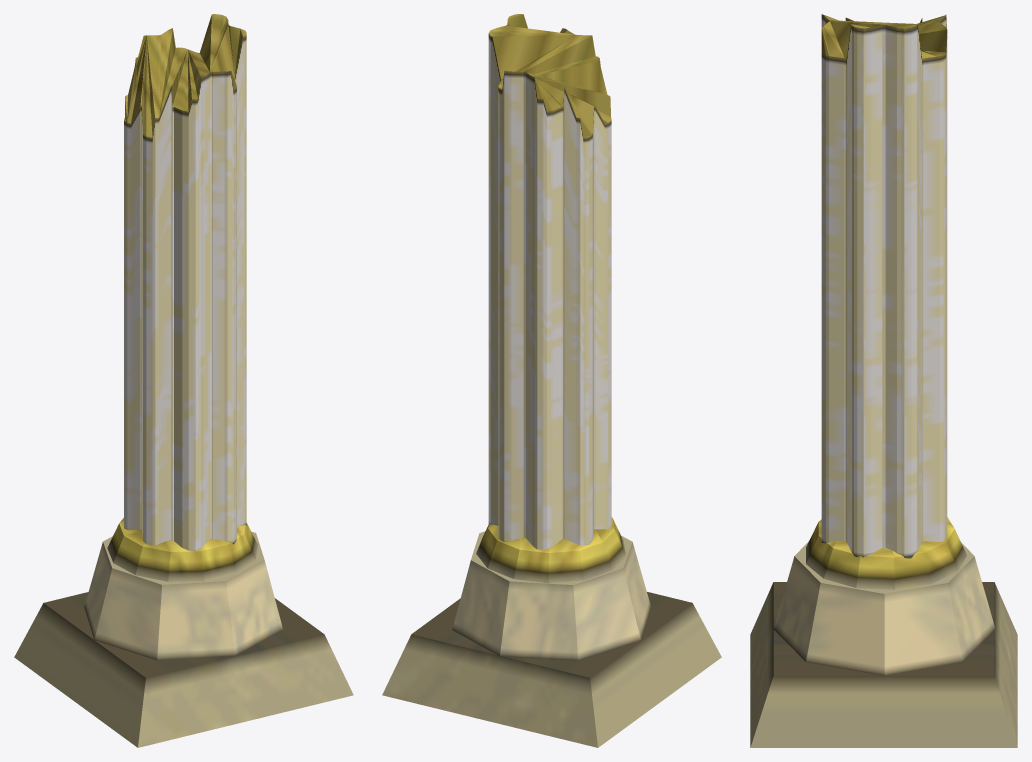
File: Columb4.glb
3 renders of one model, left to right at view 1: azimuth 30°, elevation 25°; view 2: azimuth 150°, elevation 25°; view 3: azimuth 270°, elevation 25°, orthographic. The views are drawn at different scales.
Parts seen in each view (by area): view 1: Columb4; view 2: Columb4; view 3: Columb4.
Boxes of the visible parts, x1,y1,x2,y2 form: Columb4: [14, 14, 353, 747]; Columb4: [382, 14, 721, 747]; Columb4: [750, 14, 1017, 747].
Bounding box in the file's own units: 153 × 434 × 152.
1 material, 1 textured.
